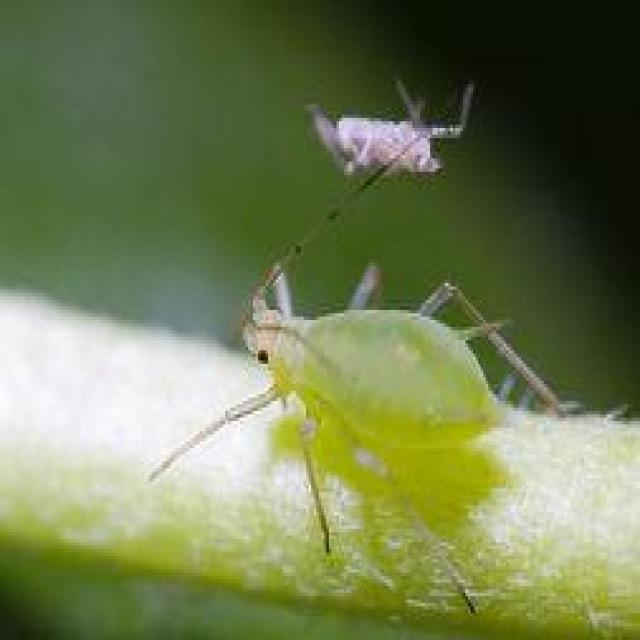Aphids: (145, 216, 578, 594), (249, 48, 507, 234)
